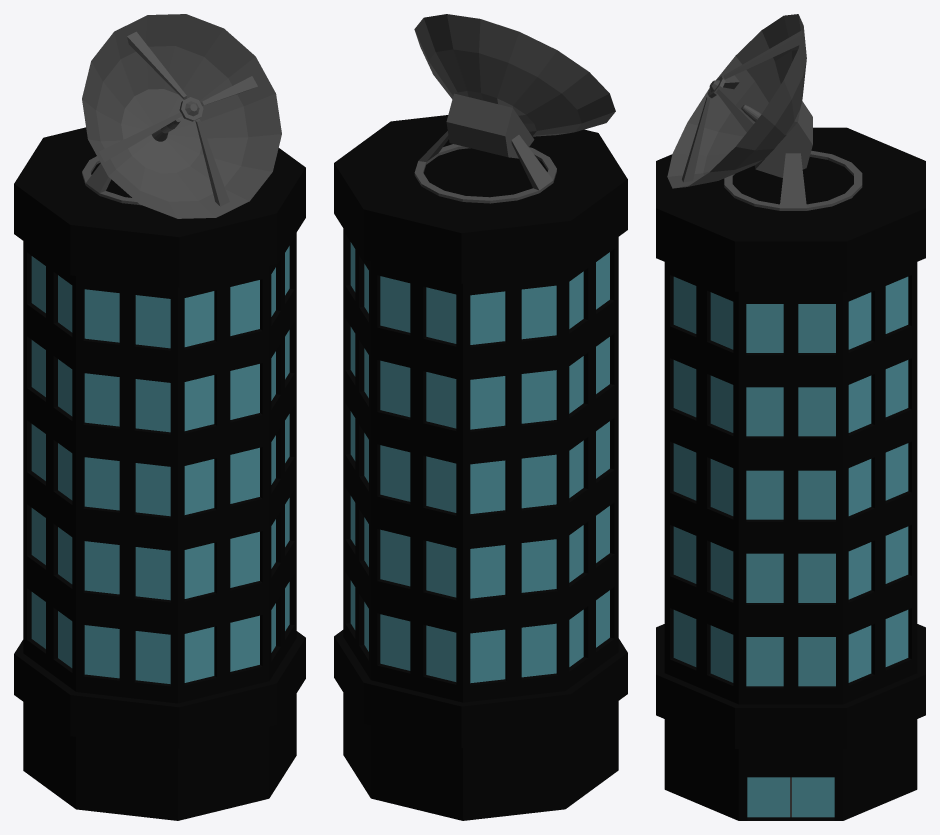
File: building_7.fbx
3 renders of one model, left to right at view 1: azimuth 30°, elevation 25°; view 2: azimuth 150°, elevation 25°; view 3: azimuth 270°, elevation 25°, orthographic.
Parts seen in each view (by area): view 1: Building5; view 2: Building5; view 3: Building5.
Part boxes in pixels (x1=…): Building5: x1=14, y1=14, x2=305, y2=820; Building5: x1=334, y1=14, x2=627, y2=820; Building5: x1=656, y1=14, x2=925, y2=820.
Bounding box in the file's own units: 698 × 2110 × 698.
